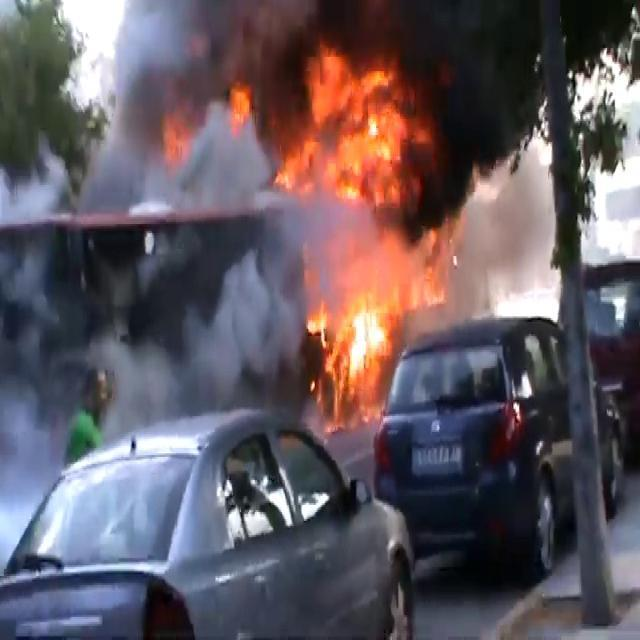Fire: (278, 36, 446, 406)
Smoke: (0, 2, 314, 450)
